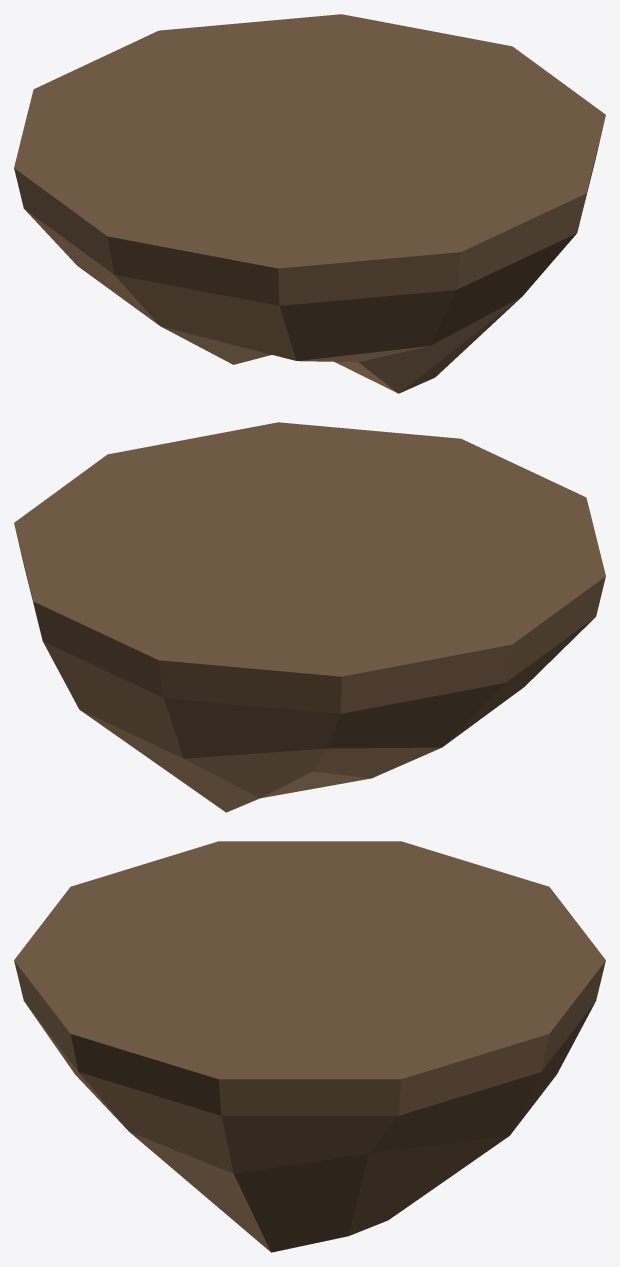
File: Arena_Small.fbx
3 views of the same model, one above another, from view 1: azimuth 30°, elevation 25°; view 2: azimuth 150°, elevation 25°; view 3: azimuth 270°, elevation 25° (orthographic). The views are drawn at different scales.
Parts seen in each view (by area): view 1: Circle; view 2: Circle; view 3: Circle.
Part boxes in pixels (<box>): Circle: <box>14,14,605,393</box>; Circle: <box>14,422,605,812</box>; Circle: <box>14,841,605,1252</box>.
Bounding box in the file's own units: 380 × 180 × 400.
